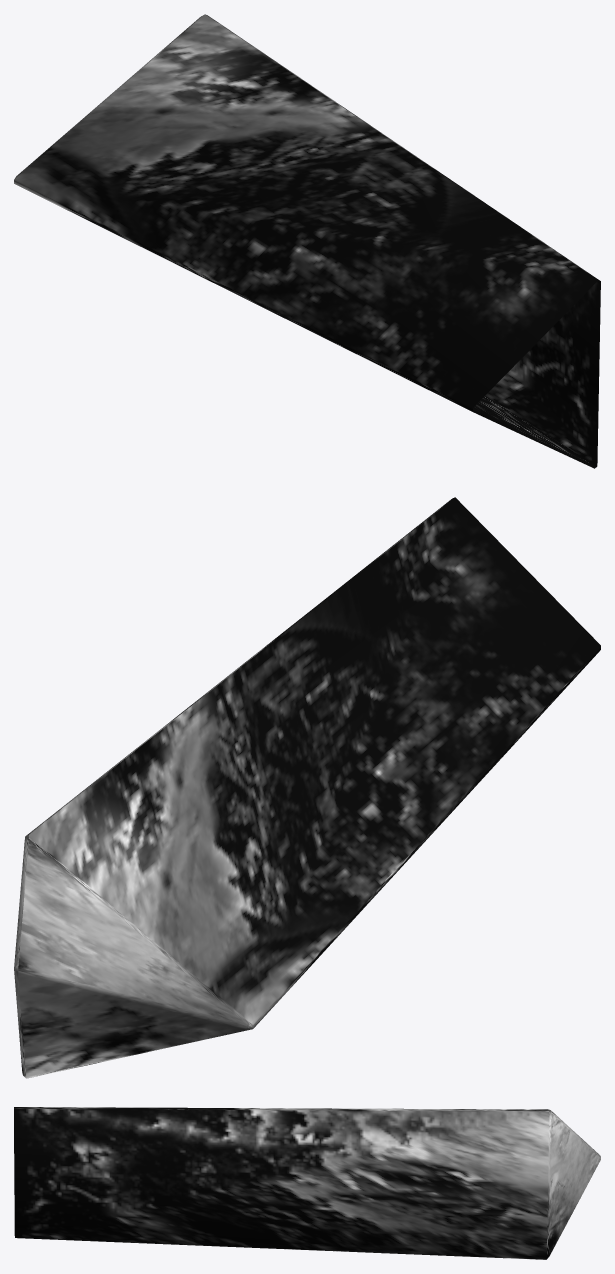
File: MEP_Crystal_03.fbx
3 renders of one model, top to bottom at view 1: azimuth 30°, elevation 25°; view 2: azimuth 150°, elevation 25°; view 3: azimuth 270°, elevation 25°, orthographic. The views are drawn at different scales.
Visible parts, largest first — view 1: MEP_Crystal_03; view 2: MEP_Crystal_03; view 3: MEP_Crystal_03.
Boxes of the visible parts, x1,y1,x2,y2 form: MEP_Crystal_03: [14, 14, 600, 468]; MEP_Crystal_03: [14, 497, 600, 1078]; MEP_Crystal_03: [14, 1107, 600, 1259].
Bounding box in the file's own units: 1.15 × 1.18 × 4.03.
Materials: 1 (1 with a texture image).
